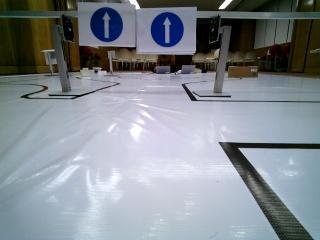straight: (139, 9, 196, 53), (80, 2, 137, 44)
